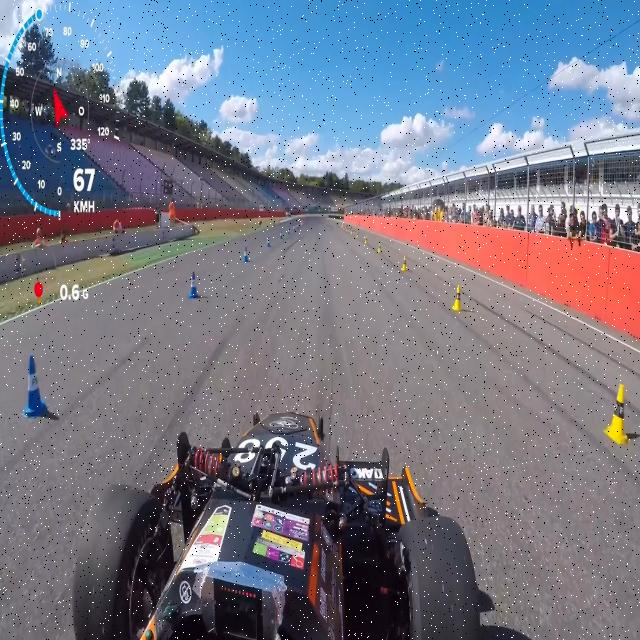blue_cone: (20, 352, 50, 418), (188, 272, 200, 298), (243, 247, 249, 264), (266, 238, 270, 248), (280, 230, 282, 240), (288, 227, 290, 235), (293, 225, 295, 233)
yellow_cone: (604, 378, 630, 448), (451, 283, 461, 312), (401, 254, 407, 272), (375, 240, 381, 254), (364, 233, 368, 246), (356, 230, 359, 240)
